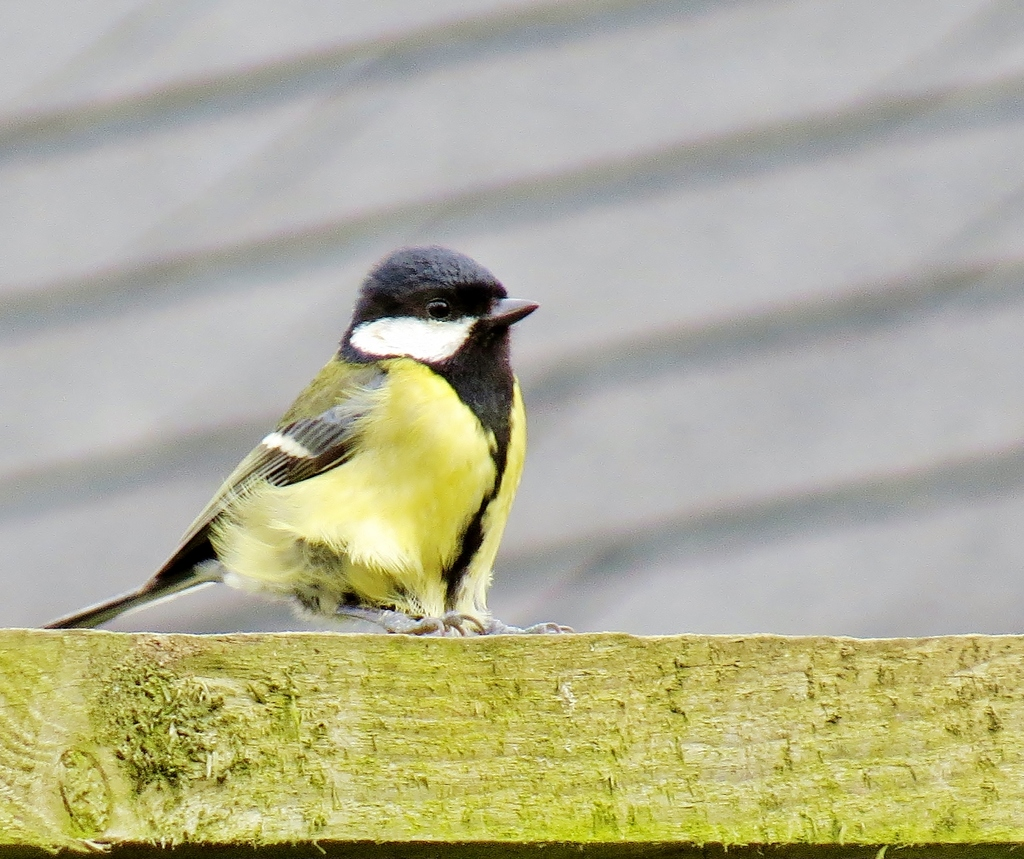Animal: (40, 244, 577, 632)
